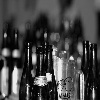beer: (18, 36, 34, 100)
